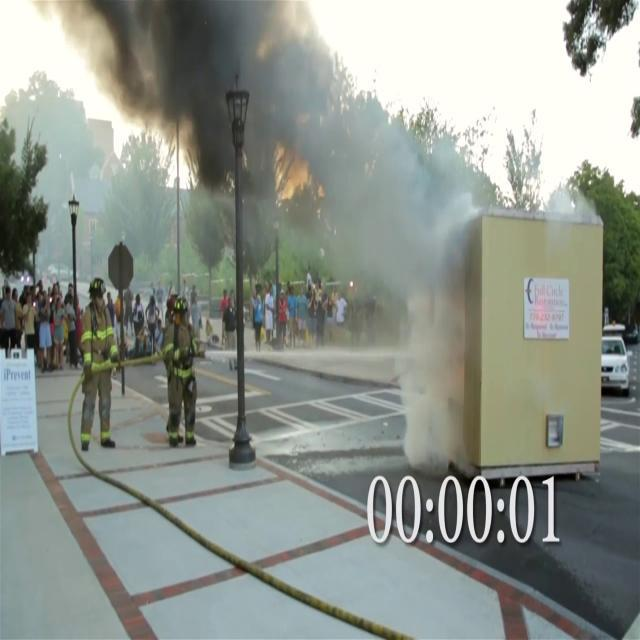Smoke: (110, 0, 376, 268), (370, 113, 480, 489)
